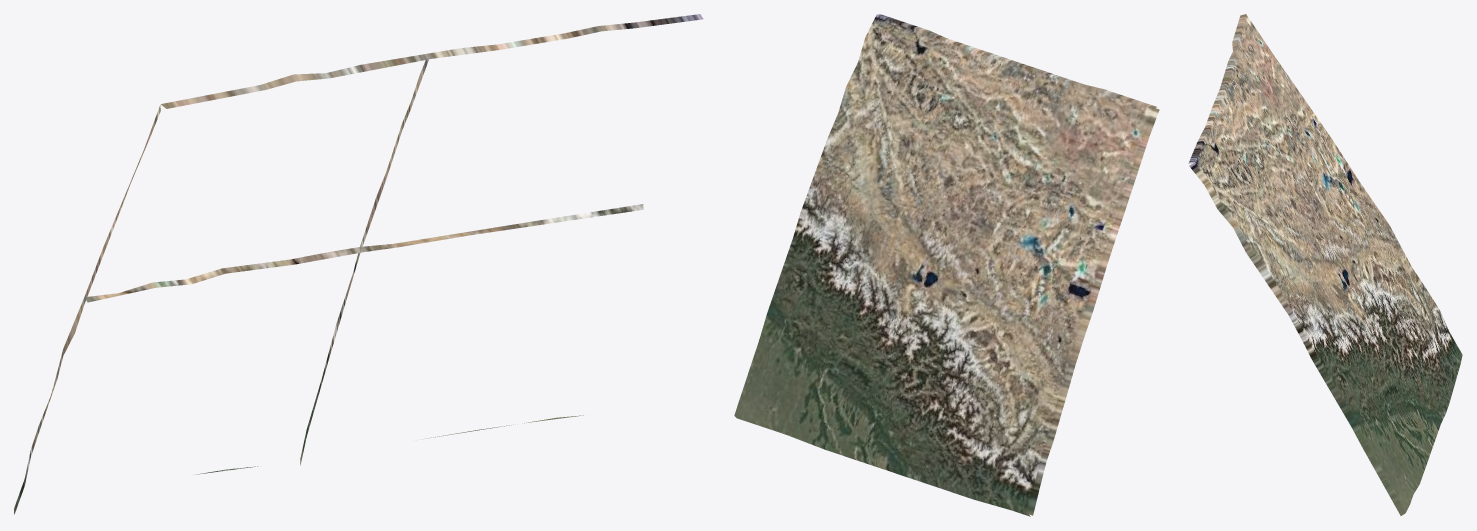
3 views of the same model, side by side, from view 1: azimuth 30°, elevation 25°; view 2: azimuth 150°, elevation 25°; view 3: azimuth 270°, elevation 25° (orthographic). The views are drawn at different scales.
Bounding box in the file's own units: 584872 × 549375 × 402841.
1 material, 1 textured.
